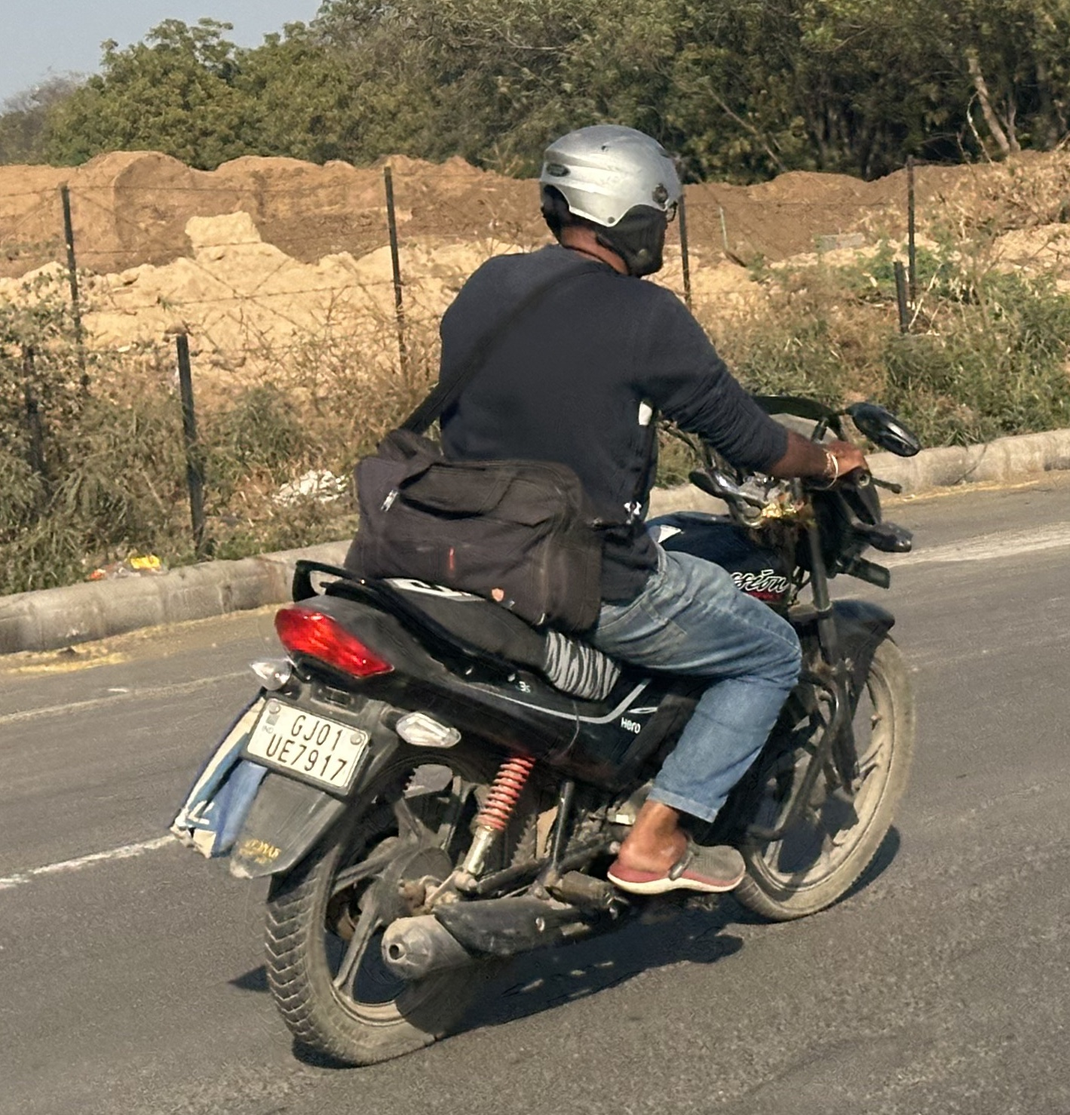BikeWithRider: (167, 102, 976, 1091)
Helmet: (517, 114, 701, 278)
